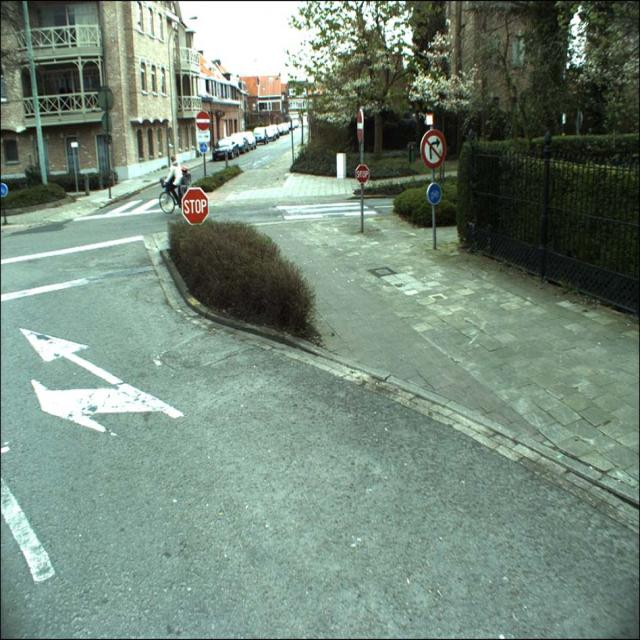girisyok: (356, 108, 364, 144), (196, 111, 210, 130)
sagadonulmez: (420, 130, 447, 167)
